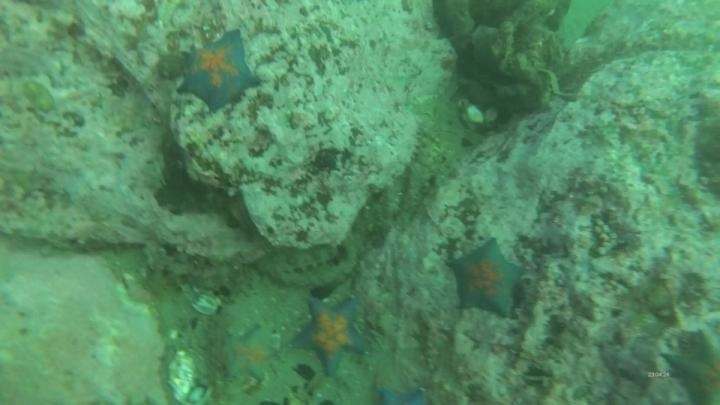holothurian: (253, 241, 344, 277), (278, 263, 351, 288)
starfish: (176, 29, 262, 113), (445, 237, 527, 320), (290, 295, 371, 377), (658, 331, 720, 405), (219, 323, 281, 384), (374, 380, 429, 404)
